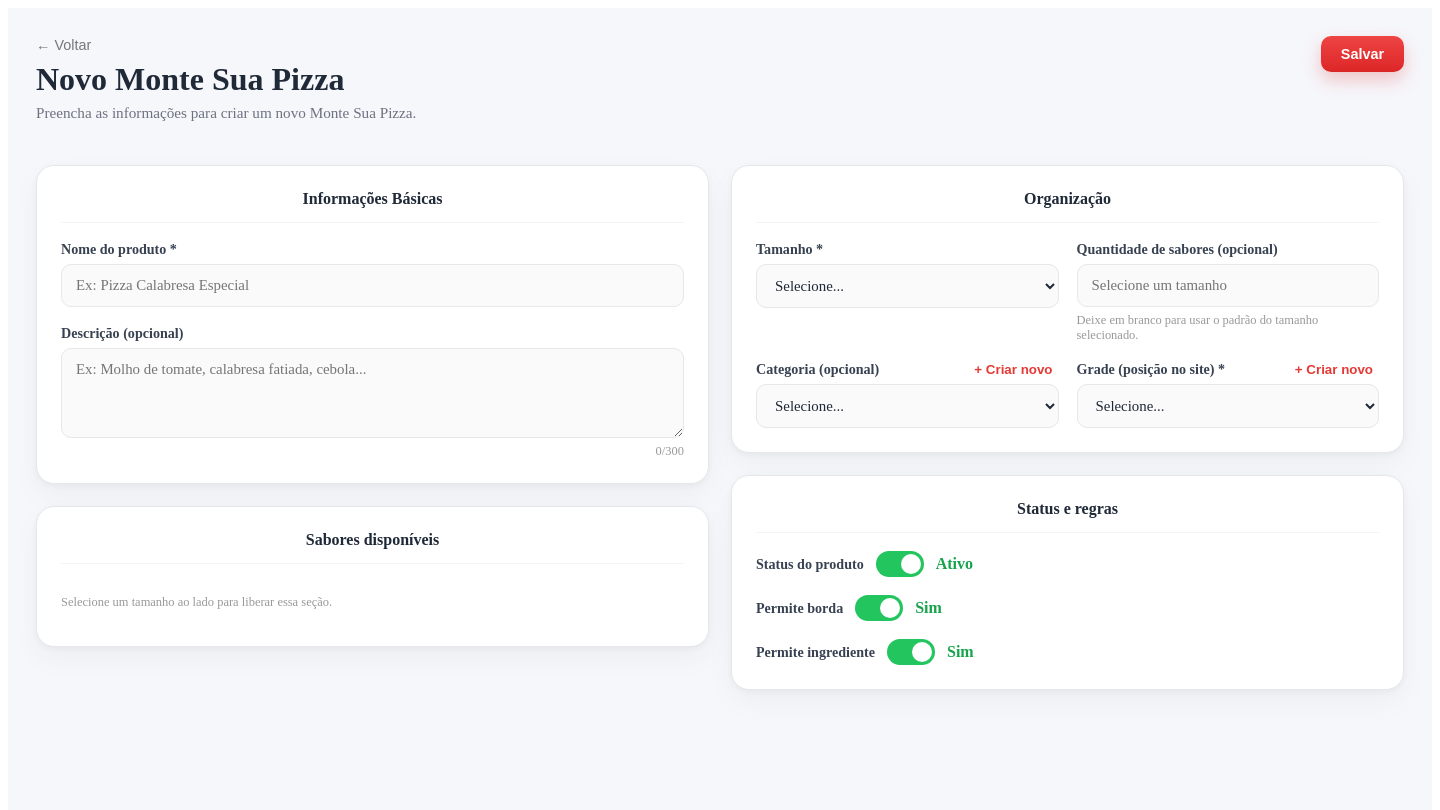
Test: NovoMonteSuaPizza (admin) › rejeita qtd_sabores_override menor que 1
Step 1. Type "0" into the number field with placeholder "Selecione um tamanho" → (1228, 286), box top-left (1076, 264), bottom-right (1379, 307)
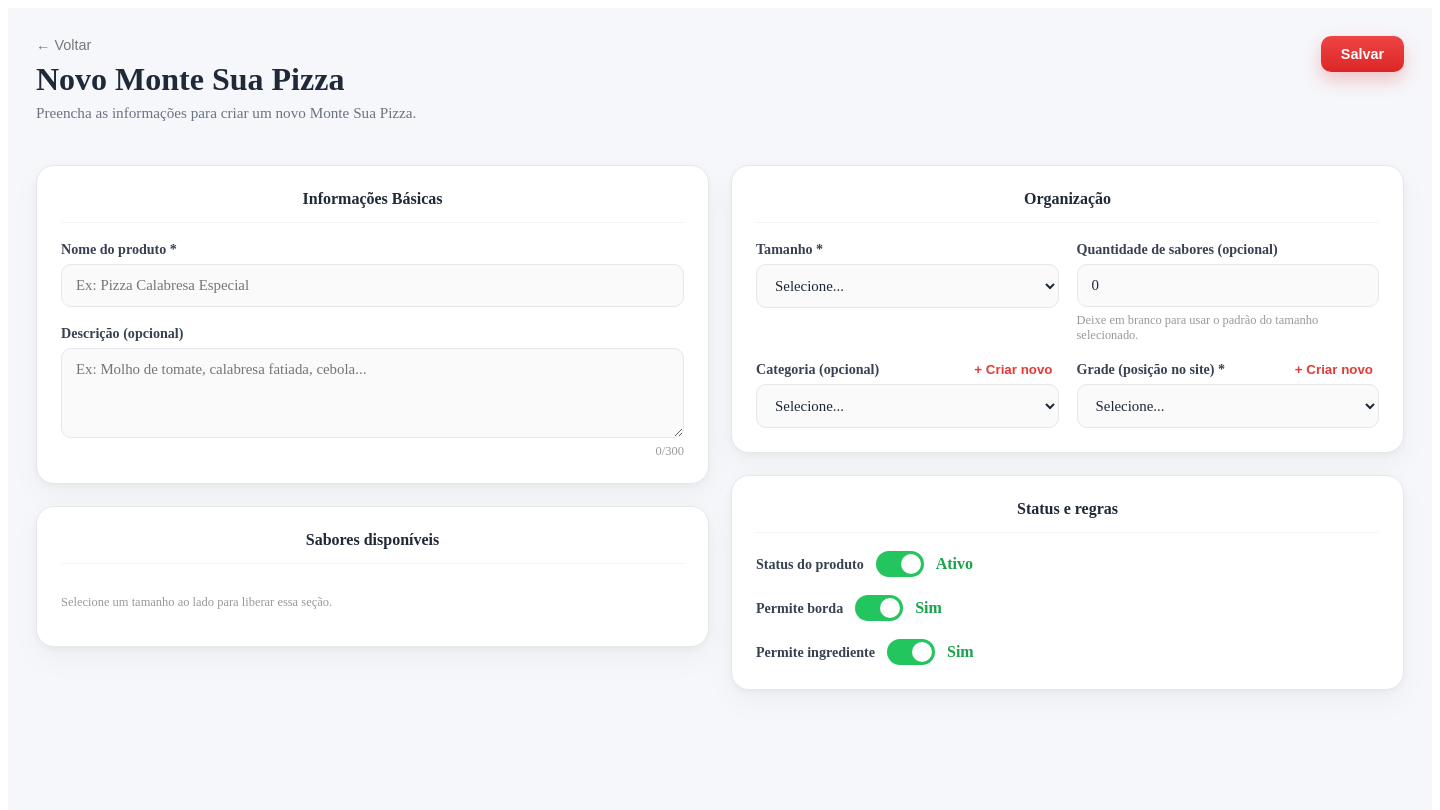
Step 2. Click the button "Salvar" → (1362, 54), box top-left (1321, 36), bottom-right (1404, 72)
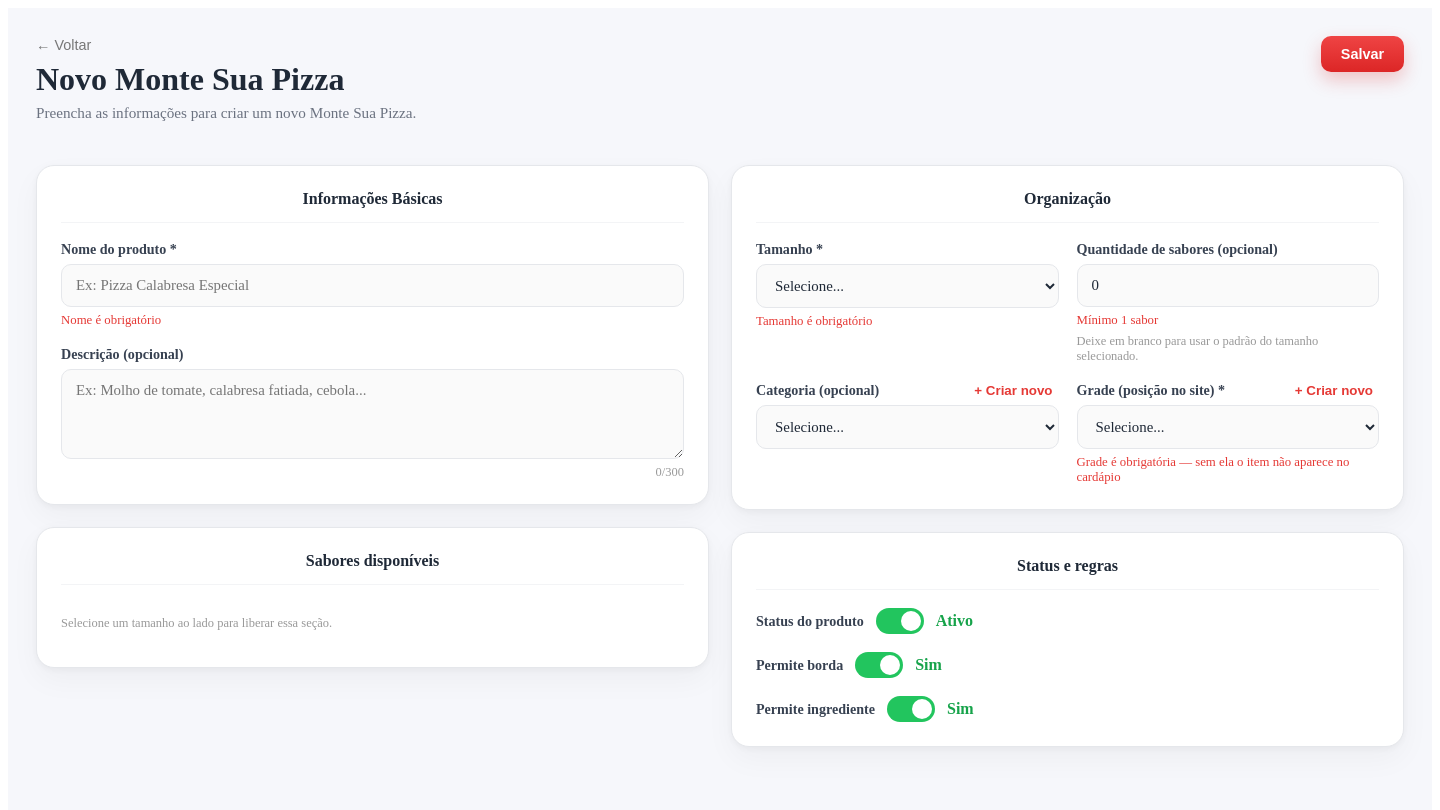
Expected: the text "Mínimo 1 sabor" is shown, top-left (1076, 313), bottom-right (1158, 327)
